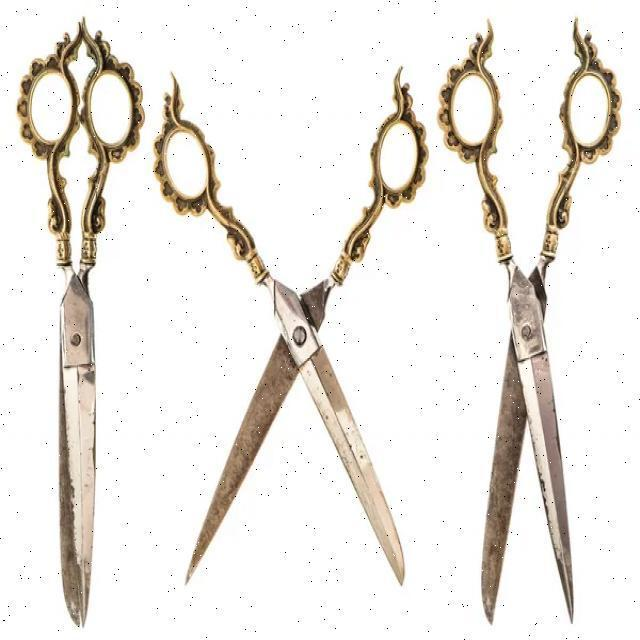scissors: (148, 63, 428, 592), (432, 20, 624, 629), (13, 9, 147, 634)
